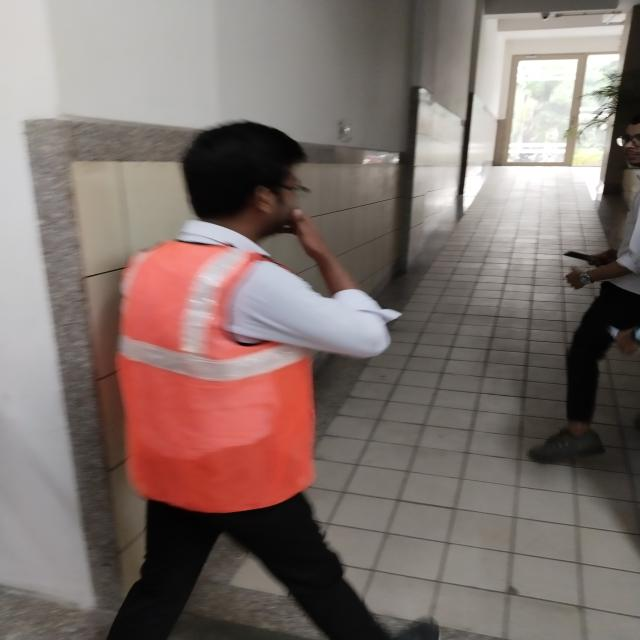unsafe: (90, 122, 441, 640)
